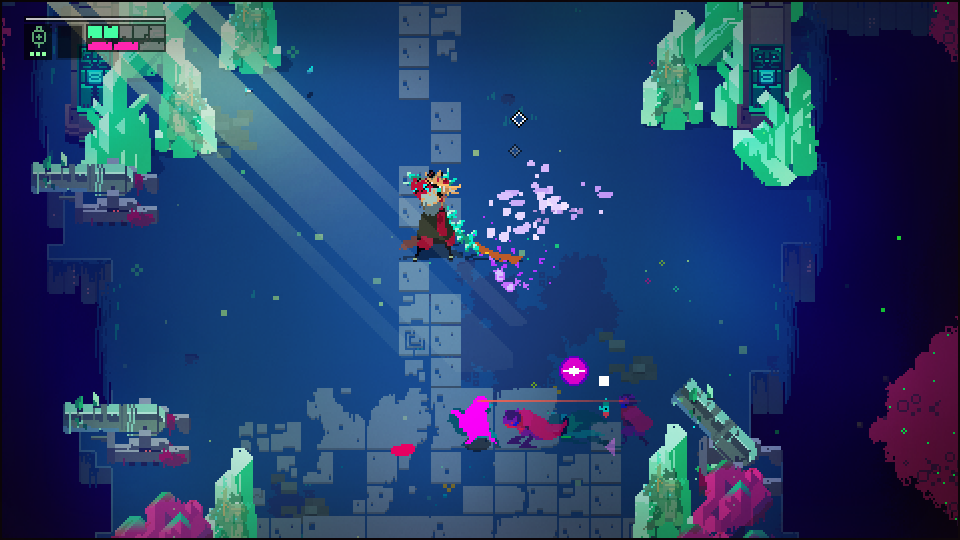hanged_man: (394, 168, 491, 265)
hanged_shot: (555, 353, 592, 389)
player: (450, 397, 497, 448)
